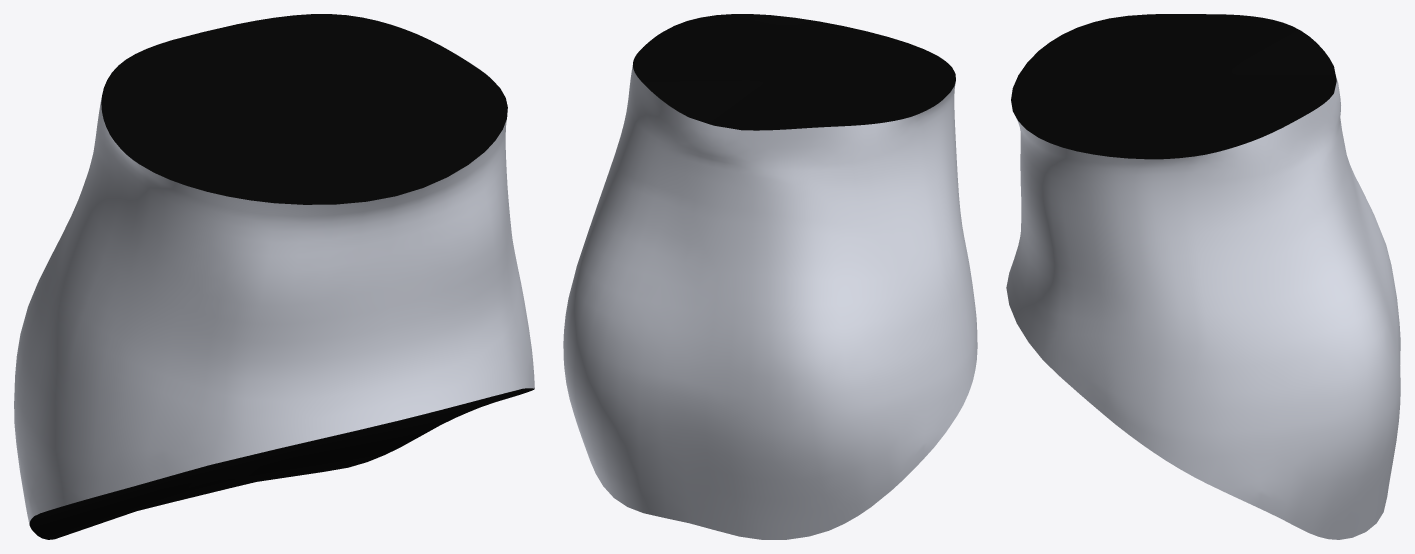
The model's file is abdomen.obj.
3 renders of one model, left to right at view 1: azimuth 30°, elevation 25°; view 2: azimuth 150°, elevation 25°; view 3: azimuth 270°, elevation 25°, orthographic. The views are drawn at different scales.
Visible parts, largest first — view 1: abdomen; view 2: abdomen; view 3: abdomen.
Part boxes in pixels (<box>): abdomen: <box>14,14,534,539</box>; abdomen: <box>563,14,977,539</box>; abdomen: <box>1006,14,1400,539</box>.
Bounding box in the file's own units: 0.2796 × 0.2859 × 0.2467.
1 material, 1 textured.
